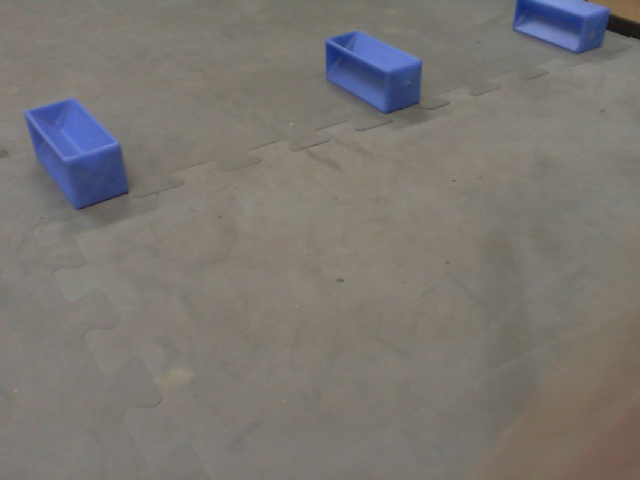BlueSample: (22, 97, 130, 213), (322, 30, 427, 119), (512, 1, 611, 56)
